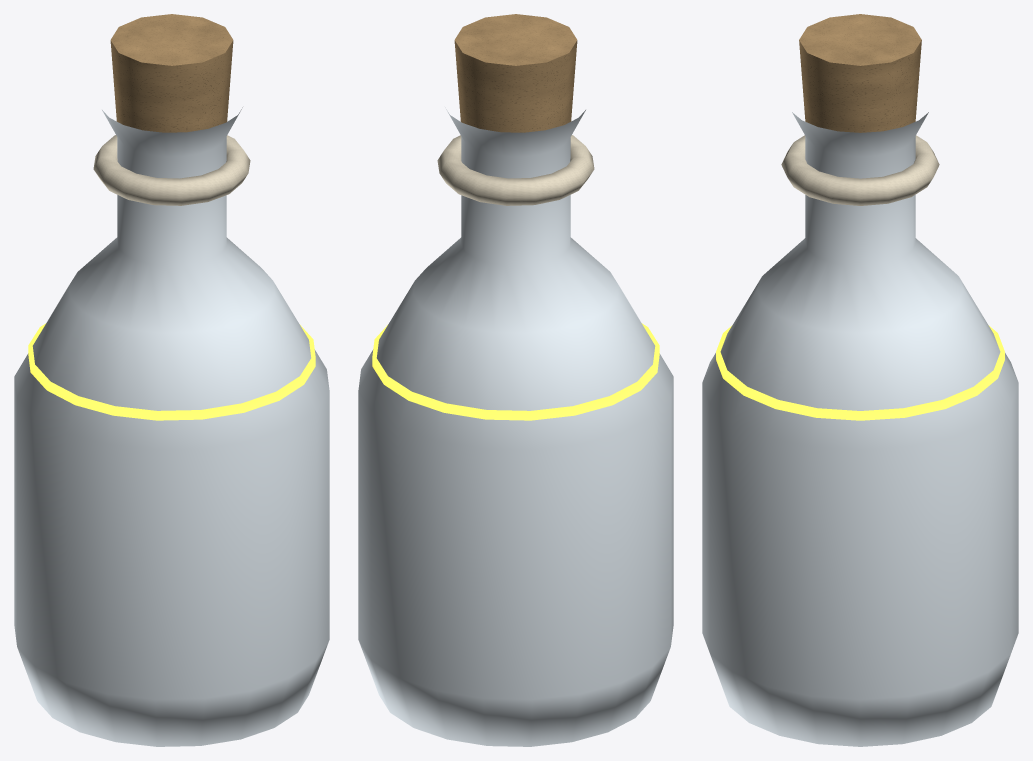
Rendered from soultrap_potion.glb.
3 views of the same model, side by side, from view 1: azimuth 30°, elevation 25°; view 2: azimuth 150°, elevation 25°; view 3: azimuth 270°, elevation 25° (orthographic).
Parts seen in each view (by area): view 1: soultrap_potion; view 2: soultrap_potion; view 3: soultrap_potion.
Part boxes in pixels (x1=…): soultrap_potion: x1=14, y1=14, x2=329, y2=746; soultrap_potion: x1=358, y1=14, x2=673, y2=746; soultrap_potion: x1=702, y1=14, x2=1018, y2=746.
Bounding box in the file's own units: 0.092 × 0.21 × 0.092.
Materials: 5 (2 with a texture image).
